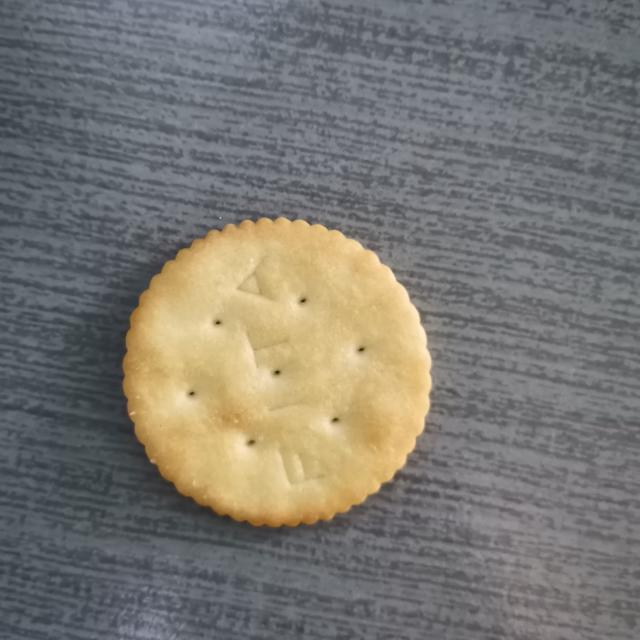Intact: (112, 204, 449, 537)
